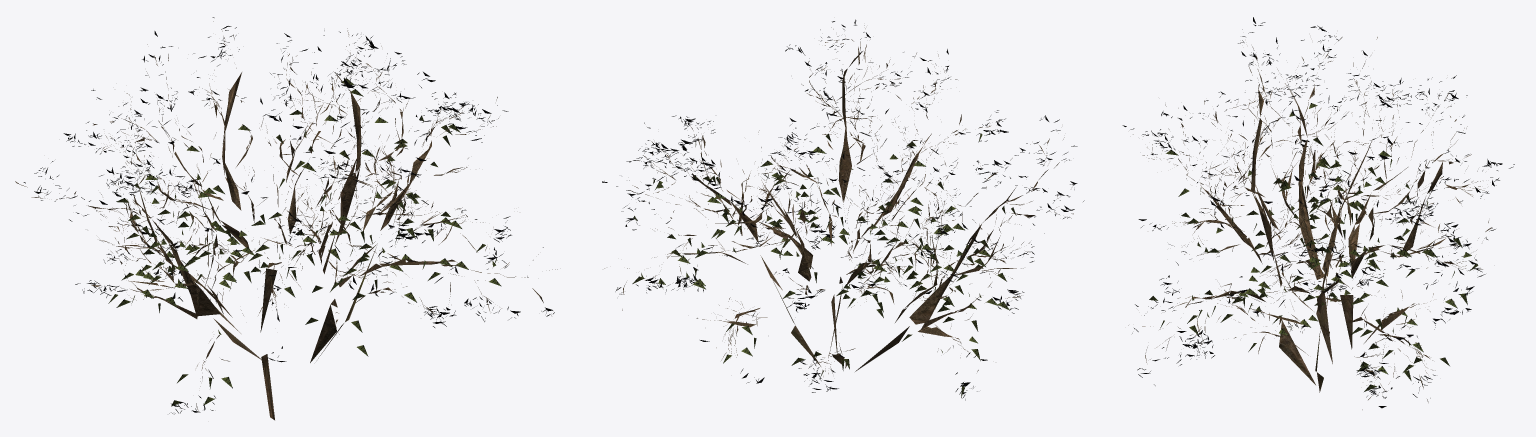
Rendered from jacaranda.glb.
The picture shows the model from 3 angles, left to right: view 1: azimuth 30°, elevation 25°; view 2: azimuth 150°, elevation 25°; view 3: azimuth 270°, elevation 25°; orthographic projection. The views are drawn at different scales.
Visible parts, largest first — view 1: tree.016; view 2: tree.016; view 3: tree.016.
Part boxes in pixels (box(x1,y1,x2,y2)): tree.016: box(15, 17, 557, 420); tree.016: box(602, 19, 1084, 400); tree.016: box(1122, 17, 1514, 409).
Bounding box in the file's own units: 24.09 × 18.9 × 18.51.
Materials: 3 (3 with a texture image).
